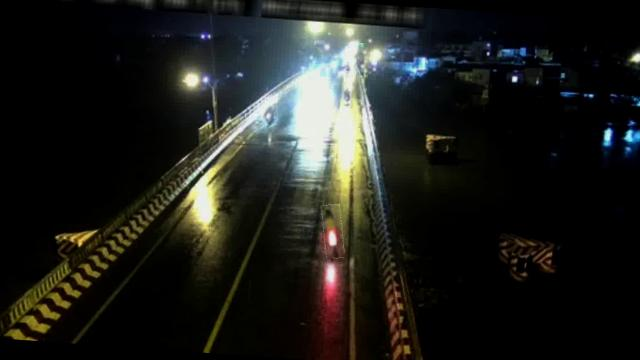Bike: (320, 204, 346, 259), (260, 103, 278, 126)
